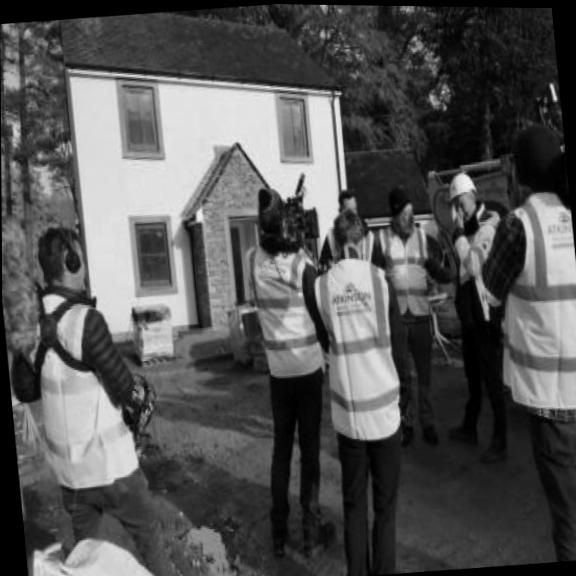safety_vest: (20, 288, 158, 499), (496, 197, 576, 421), (323, 261, 408, 464), (247, 243, 327, 404), (378, 225, 442, 329), (457, 213, 501, 332)
